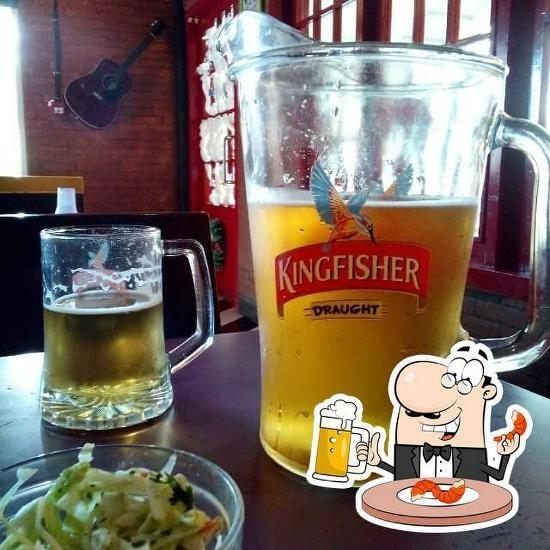glass-mug: (219, 40, 550, 510), (36, 219, 218, 435)
